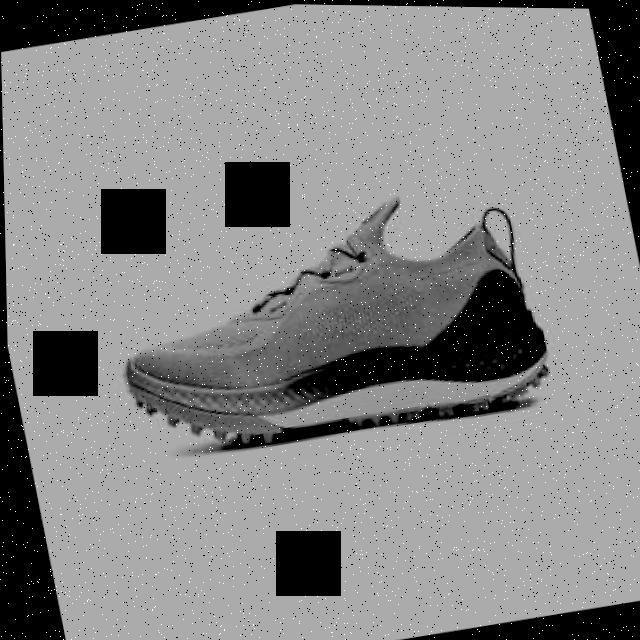shoe: (93, 167, 556, 470)
